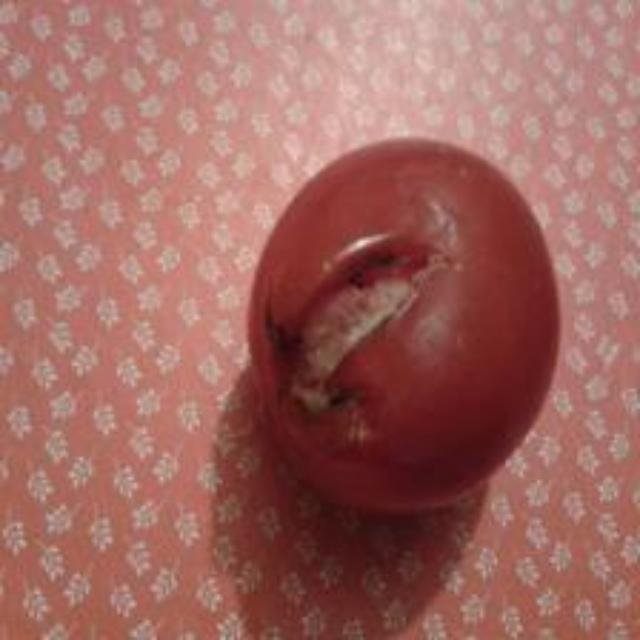defect: (243, 132, 567, 520)
